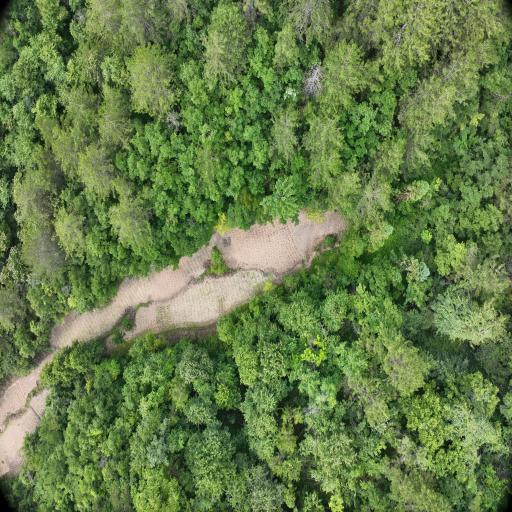dead-tree: (307, 63, 323, 97), (100, 456, 106, 468)
